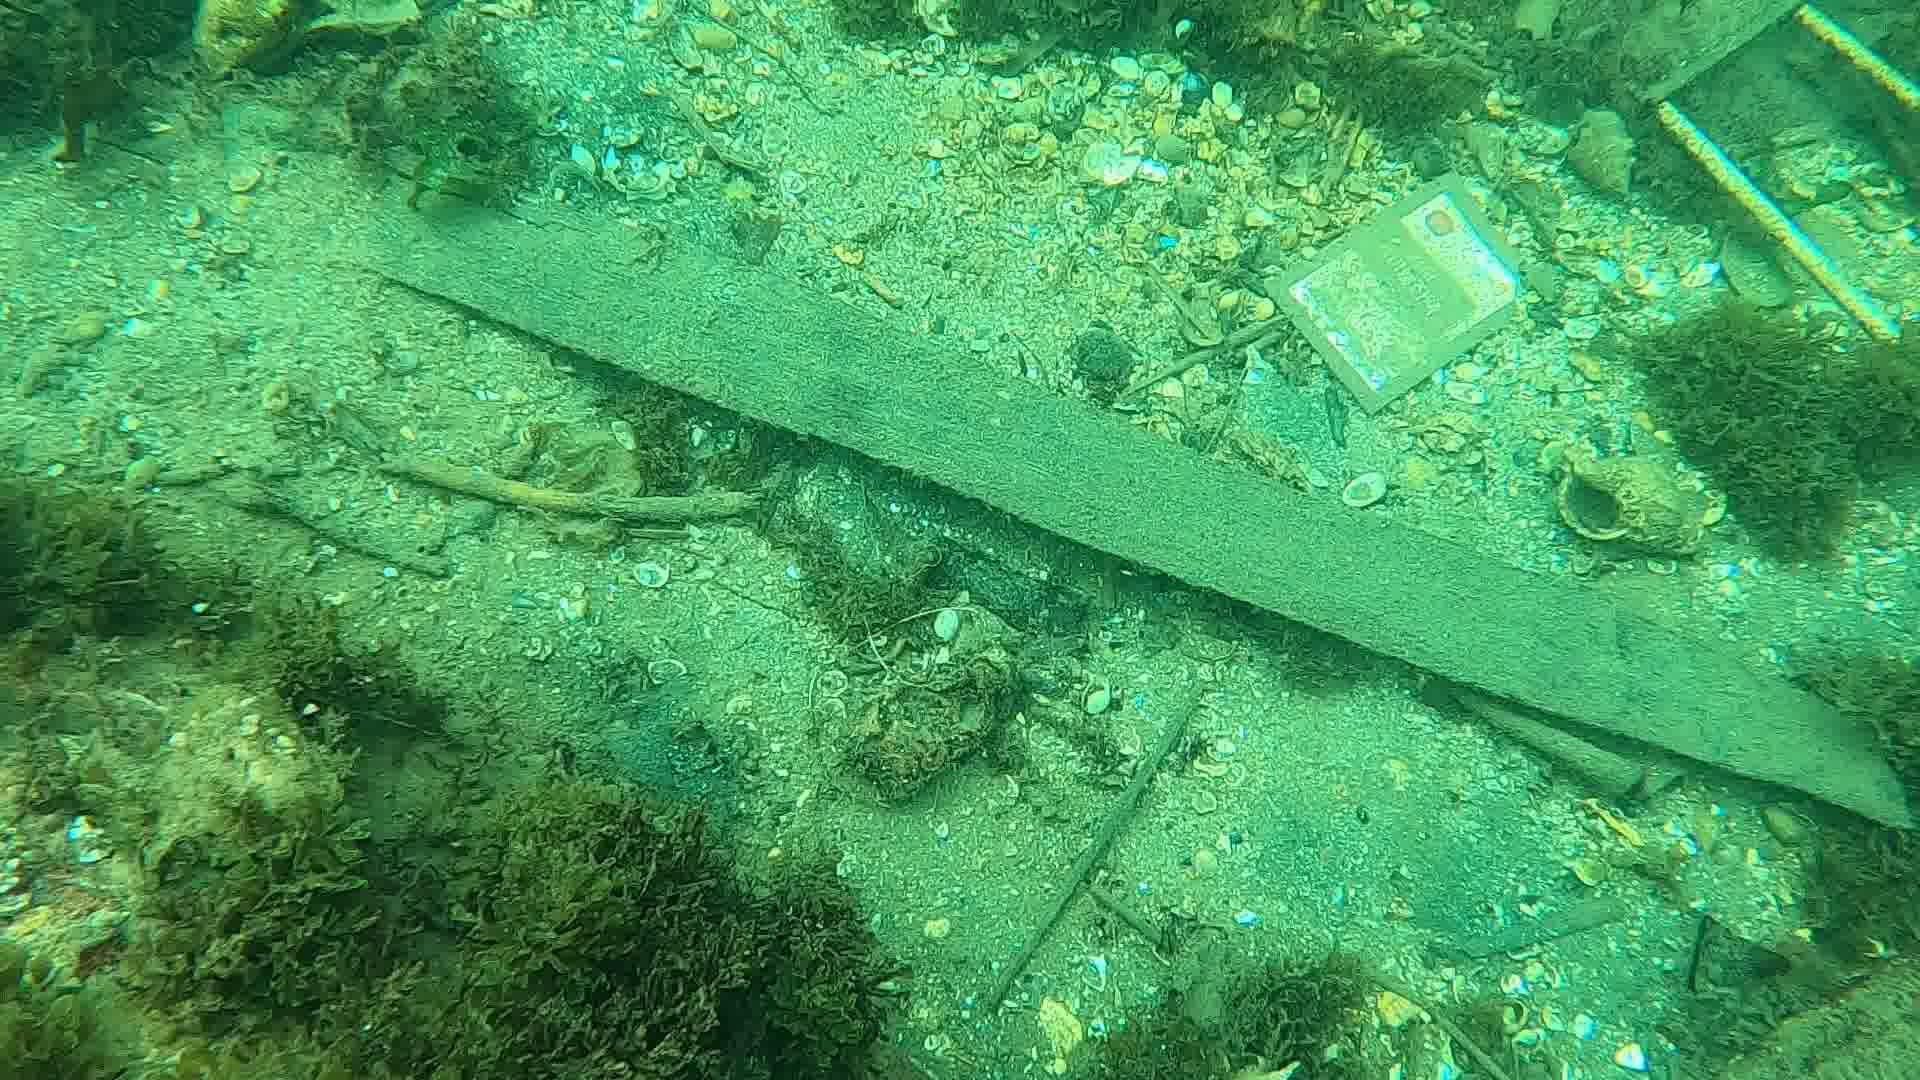wood: (353, 171, 1920, 832)
